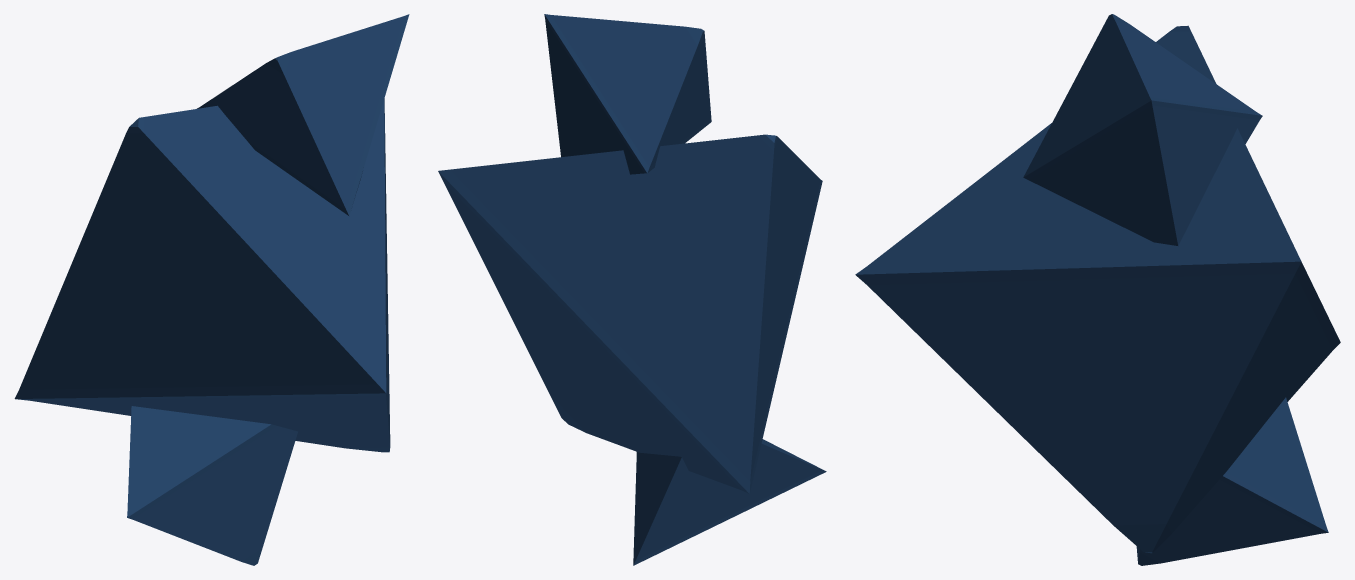
The picture shows the model from 3 angles, left to right: view 1: azimuth 30°, elevation 25°; view 2: azimuth 150°, elevation 25°; view 3: azimuth 270°, elevation 25°; orthographic projection. The views are drawn at different scales.
Parts seen in each view (by area): view 1: Cube.006; view 2: Cube.006; view 3: Cube.006.
Boxes of the visible parts, bbox=[...] form: Cube.006: bbox=[14, 14, 409, 565]; Cube.006: bbox=[438, 14, 826, 565]; Cube.006: bbox=[855, 14, 1340, 565].
Bounding box in the file's own units: 4.06 × 5.7 × 4.5.
